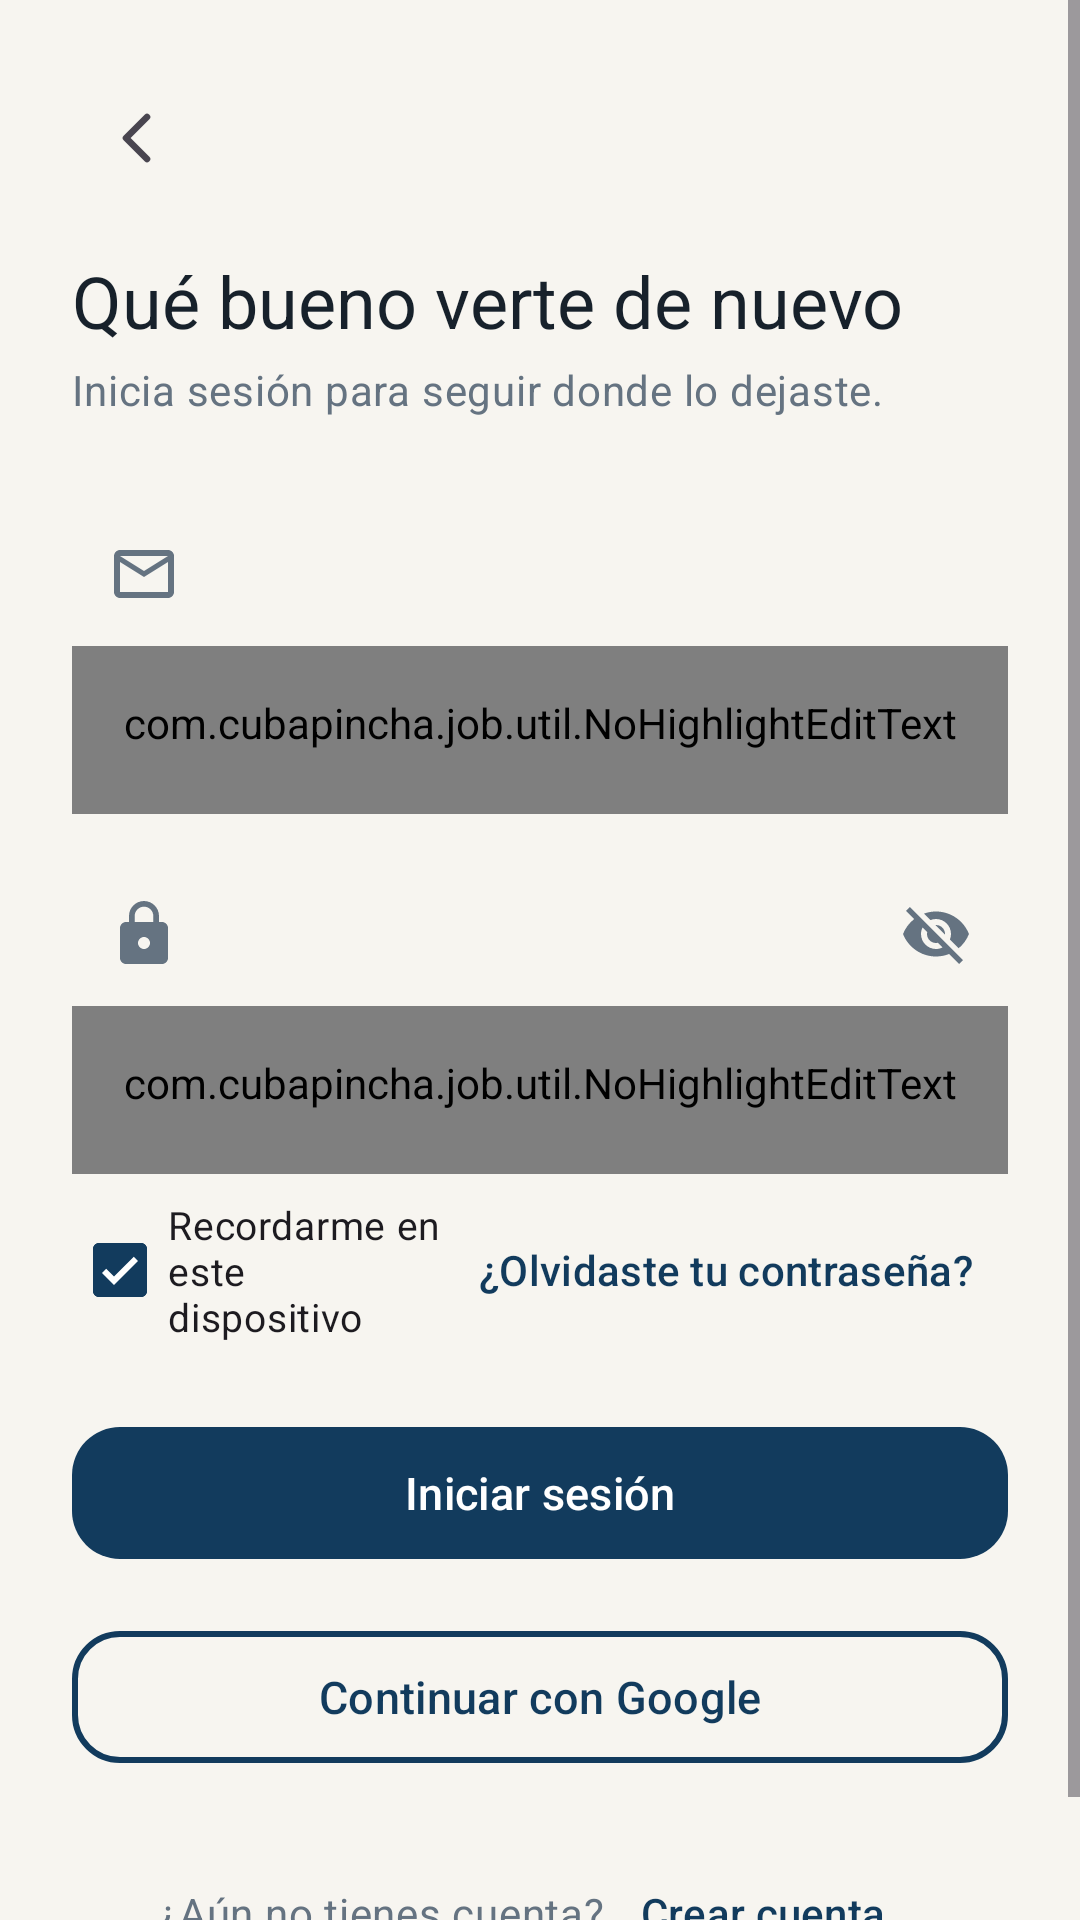

Where to tap for icons on this 1080px x 1920px app screen, as point (x, y):
Atrás: point (136, 138)
